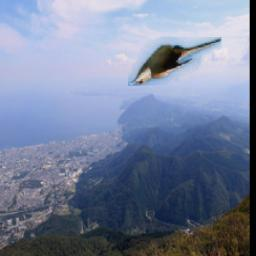Cuckoo: (129, 37, 222, 86)
